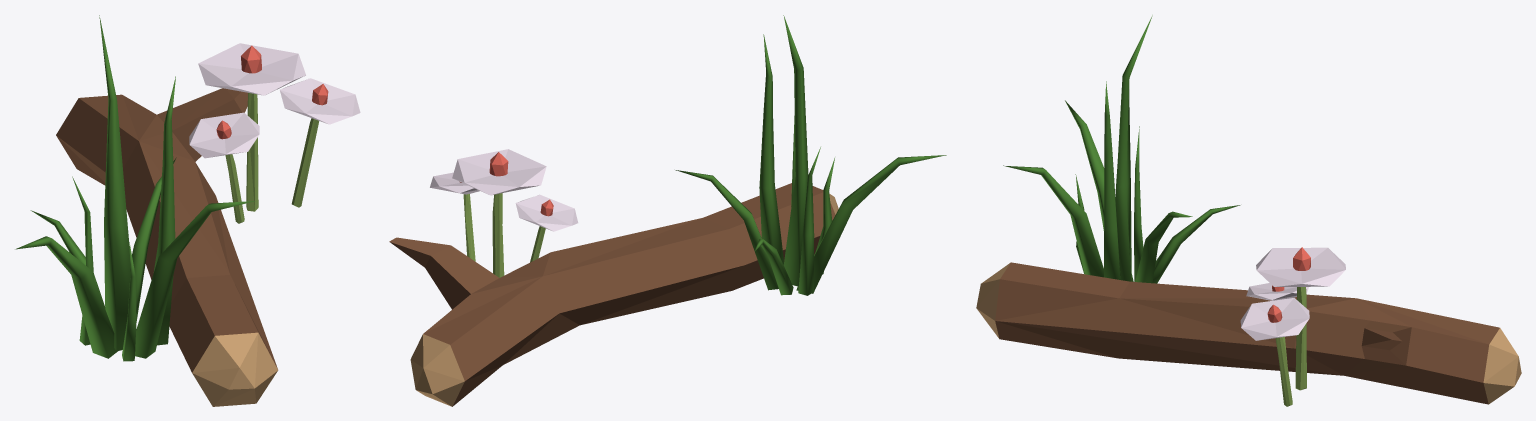
File: grass-flower.glb
3 views of the same model, side by side, from view 1: azimuth 30°, elevation 25°; view 2: azimuth 150°, elevation 25°; view 3: azimuth 270°, elevation 25° (orthographic). The views are drawn at different scales.
Visible parts, largest first — view 1: Branch1.001; view 2: Branch1.001; view 3: Branch1.001.
Boxes of the visible parts, x1,y1,x2,y2 form: Branch1.001: (15,15,360,406); Branch1.001: (389,15,946,406); Branch1.001: (976,15,1521,406).
Size of the model in its own units: 1.28 by 0.9127 by 1.5.
